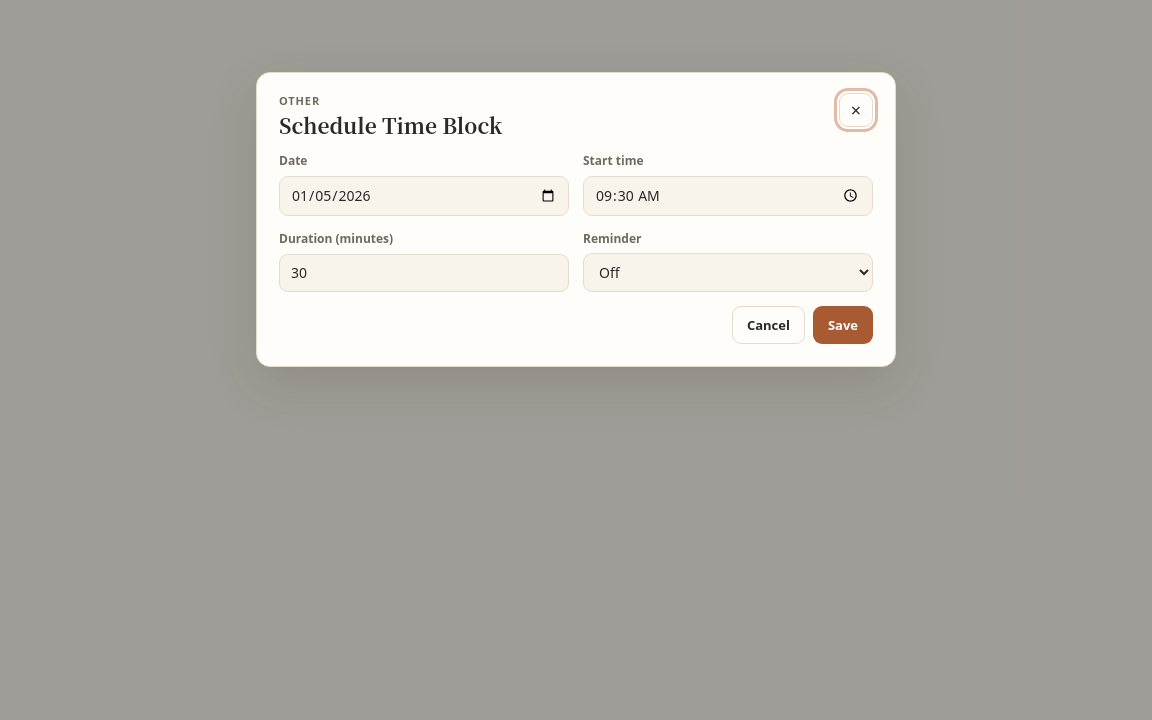
TimeBlockDialog overlap warning flow (Issue #21) › shows a warning with Adjust time / Save anyway instead of a hard rejection when the placement overlaps
Click the button "Save": coordinates (843, 325) [813, 306, 873, 344]
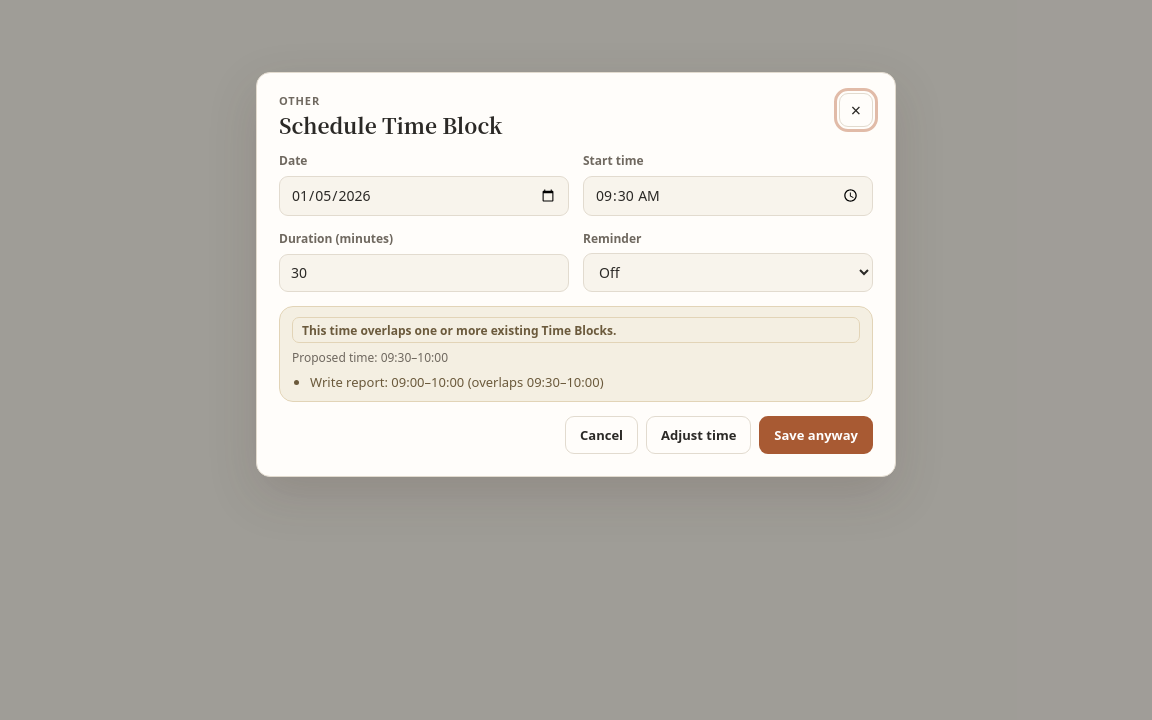
Expected: the text "overlaps one or more existing Time Blocks" is shown, [302, 322, 616, 338]
Expected: the button "Adjust time" is shown, [646, 416, 751, 454]
Expected: the button "Save anyway" is shown, [759, 416, 873, 454]
